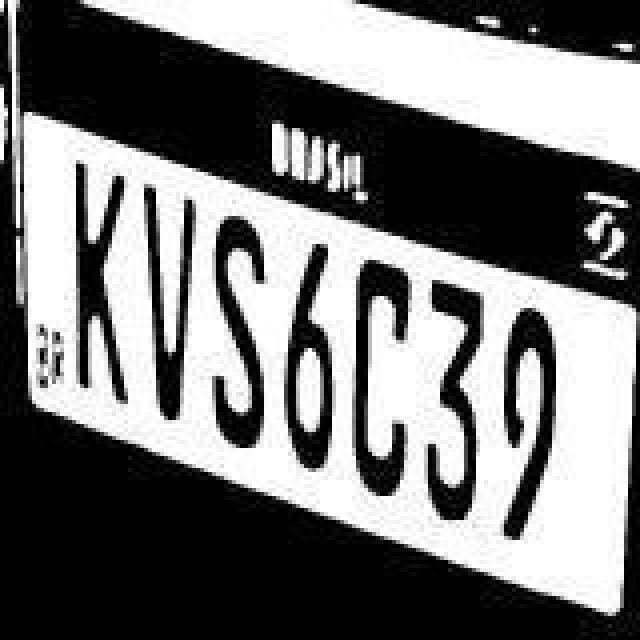3: (420, 278, 492, 530)
6: (280, 242, 344, 478)
9: (496, 304, 560, 544)
C: (348, 252, 420, 500)
K: (64, 150, 128, 394)
S: (210, 214, 270, 458)
V: (138, 176, 198, 416)
